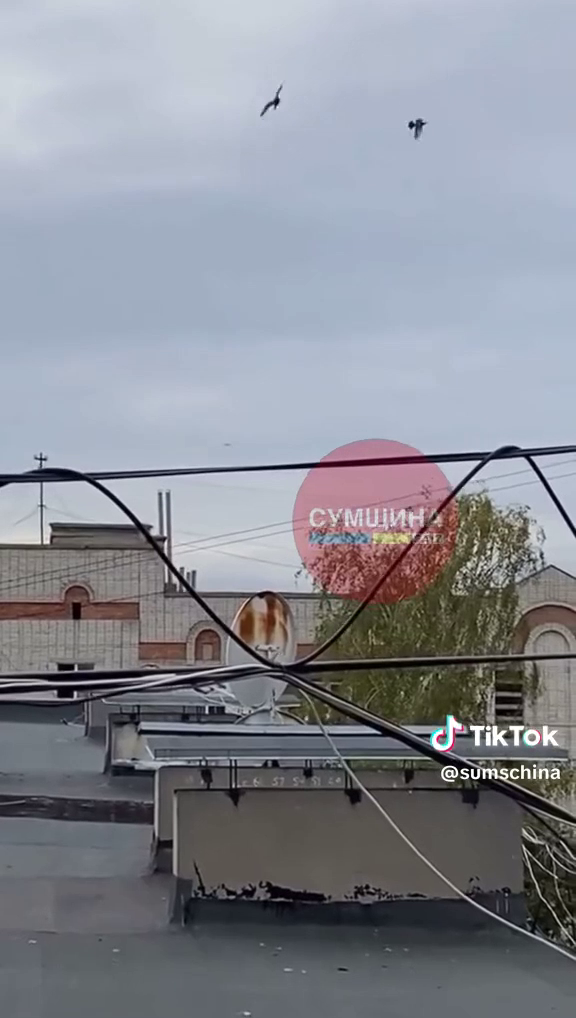not_drone: (256, 80, 290, 122), (404, 115, 434, 144)
